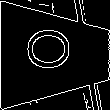O_E: (29, 34, 81, 76)
